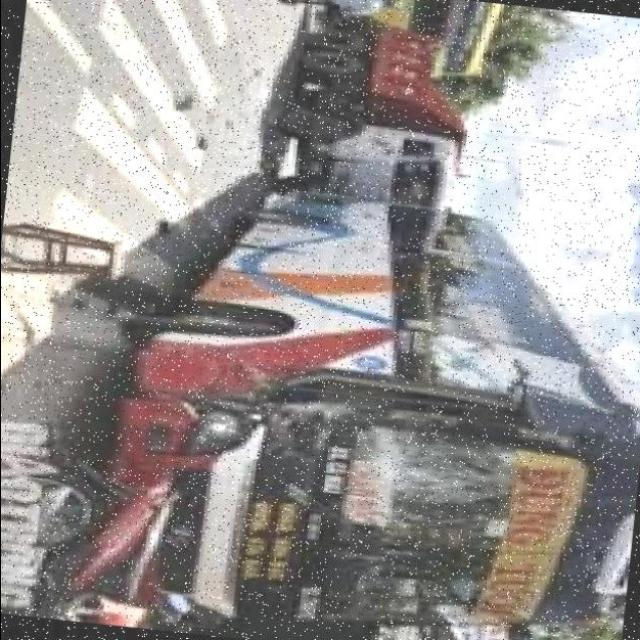accident: (76, 291, 632, 585)
